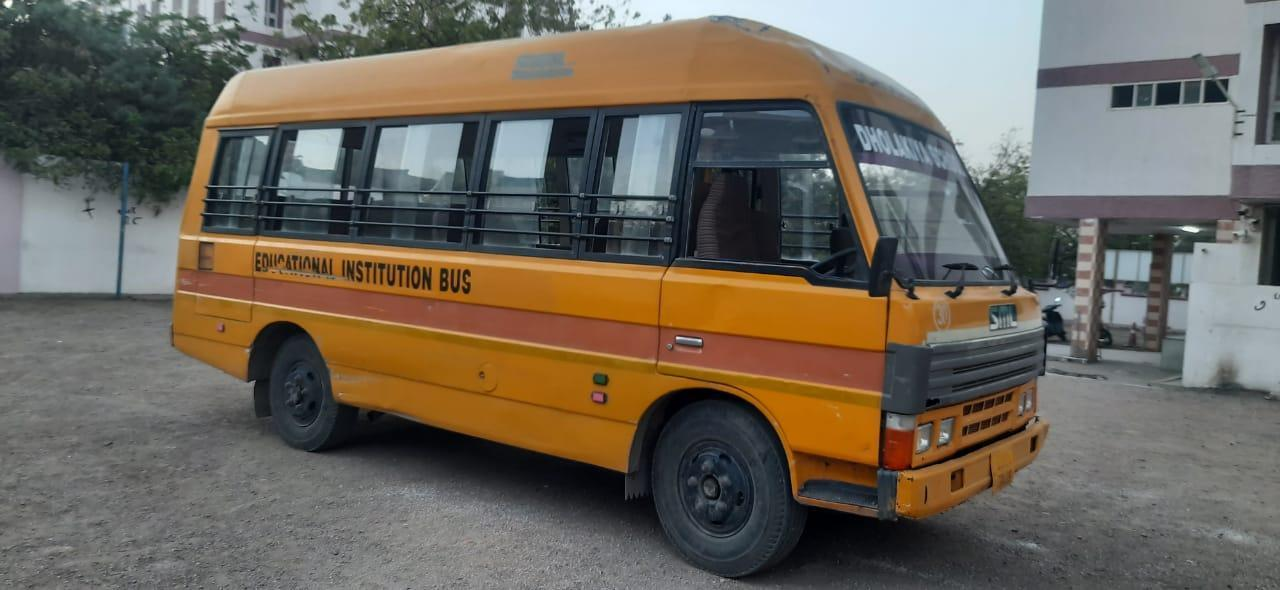Bus: (172, 37, 1073, 584)
